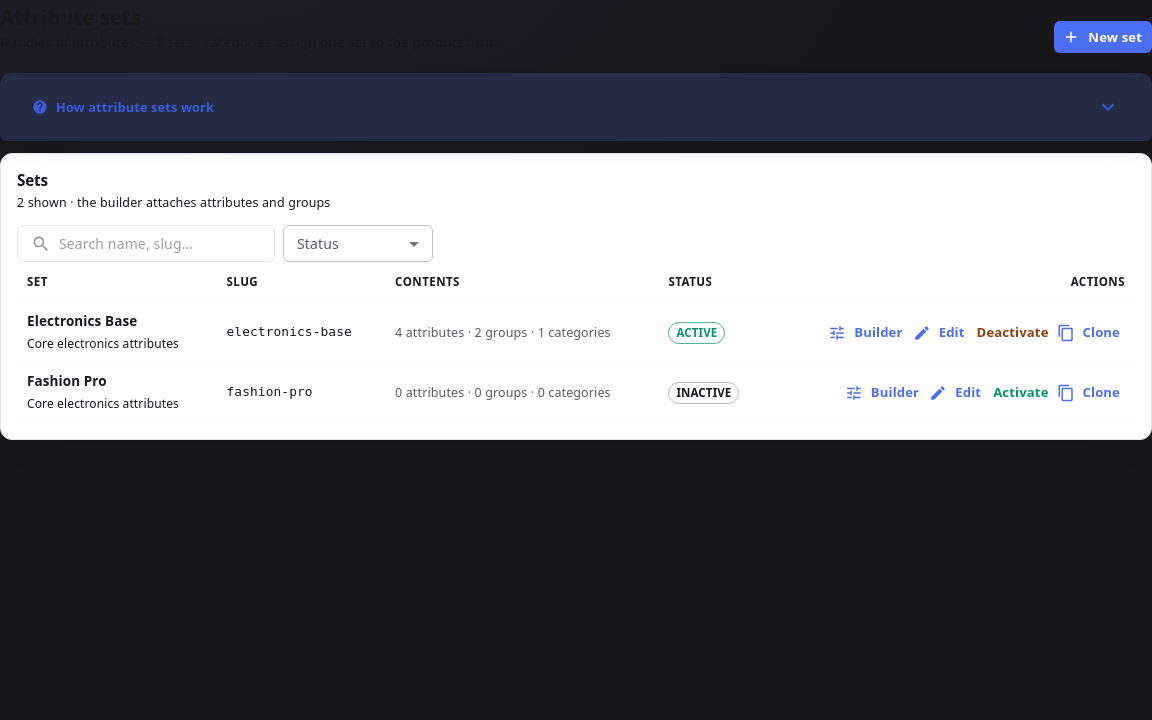
Test: AttributeSetsView (admin) › opens the create dialog from New set
Click the button "New set". click: [1103, 38]
box: left=1054, top=22, right=1151, bottom=54
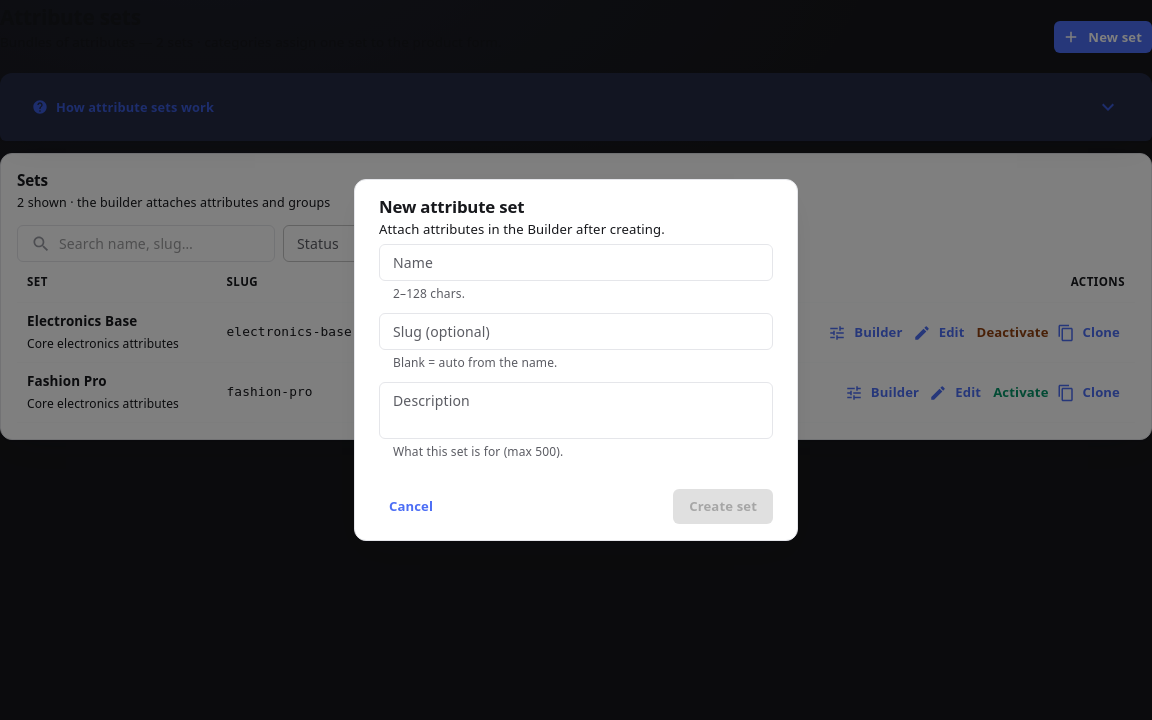
Now the text "What this set is for (max 500)." is shown, box left=393, top=443, right=563, bottom=460
